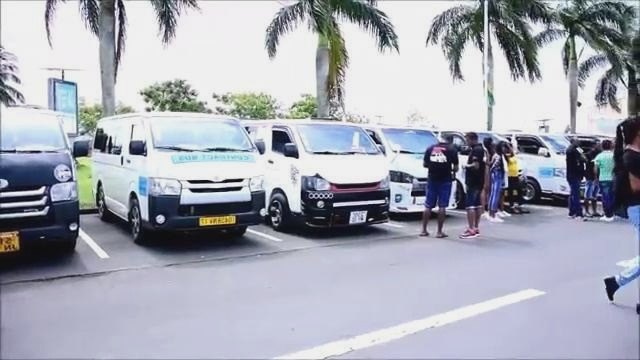van: (87, 114, 260, 251), (260, 119, 391, 228)
